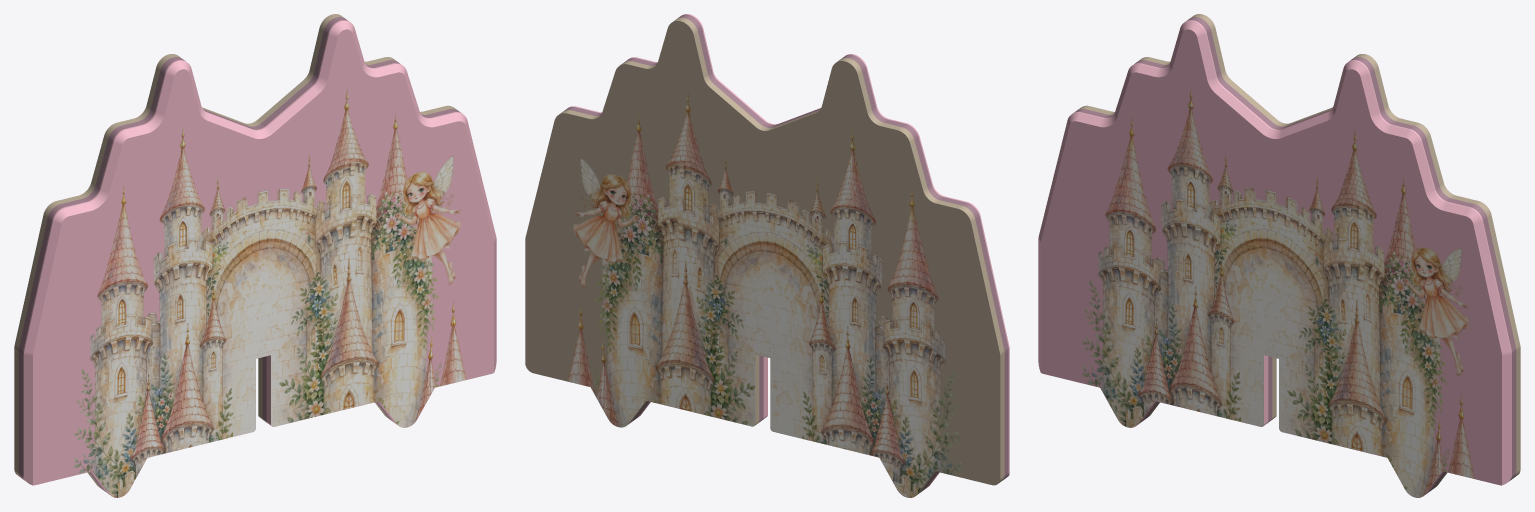
3 renders of one model, left to right at view 1: azimuth 30°, elevation 25°; view 2: azimuth 150°, elevation 25°; view 3: azimuth 330°, elevation 25°, orthographic.
Visible parts, largest first — view 1: p011; view 2: p011; view 3: p011.
Boxes of the visible parts, bbox=[...] form: p011: bbox=[14, 14, 496, 497]; p011: bbox=[525, 14, 1009, 497]; p011: bbox=[1038, 14, 1520, 497].
Size of the model in its own units: 580 by 491 by 27.
5 materials, 2 textured.
